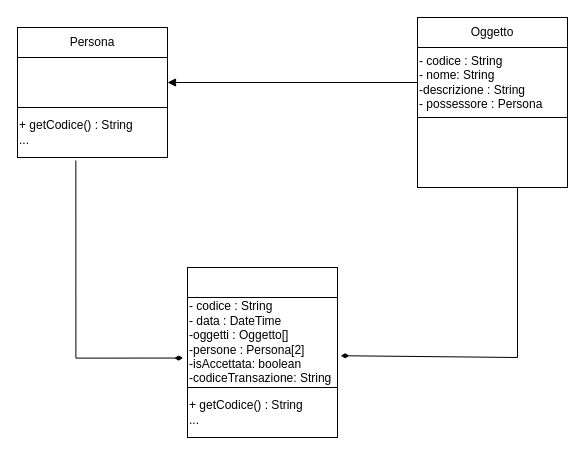
The diagram is 585 pixels wide and 455 high, and some of its shapes have lost their labels. Each missing label, with the centre of its shape:
+ getNome() : String + setNome() : void ...: (x=492, y=152)
- codice : String - nominativo : String: (x=92, y=82)
Proposta: (x=262, y=282)
